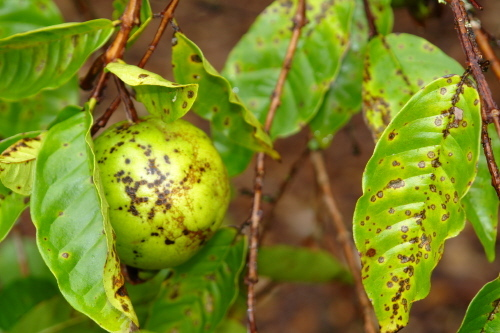guava: (11, 61, 433, 313)
